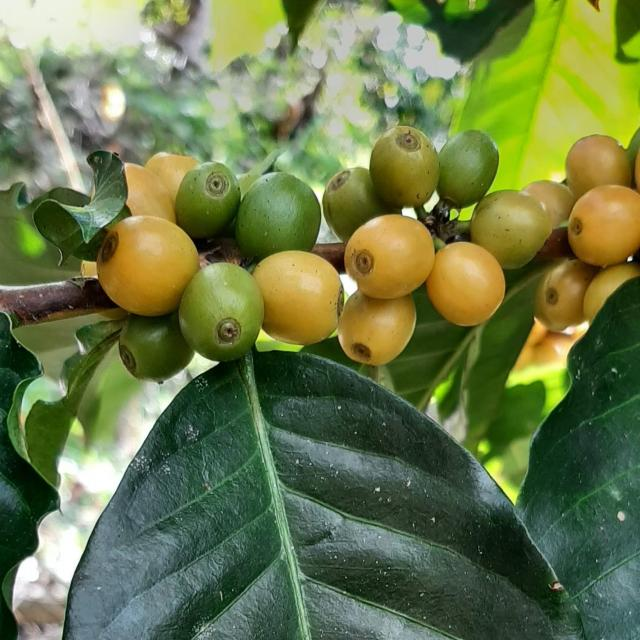green: (179, 262, 264, 362), (235, 171, 321, 260), (323, 167, 400, 242), (118, 311, 194, 382), (174, 161, 241, 238), (438, 129, 500, 208)
red: (96, 216, 198, 316), (252, 250, 344, 345), (344, 214, 436, 299), (426, 242, 506, 326), (338, 289, 417, 366), (569, 184, 640, 267), (535, 258, 601, 332), (567, 135, 633, 199), (584, 262, 640, 322), (124, 163, 176, 223), (144, 152, 197, 201)
yellow: (471, 190, 553, 269), (370, 125, 440, 208), (523, 180, 577, 228)
